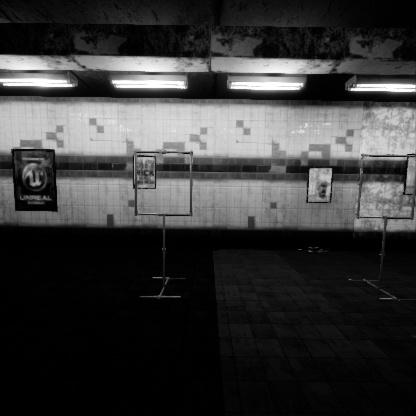gate: (134, 199, 198, 265), (357, 196, 416, 262)
